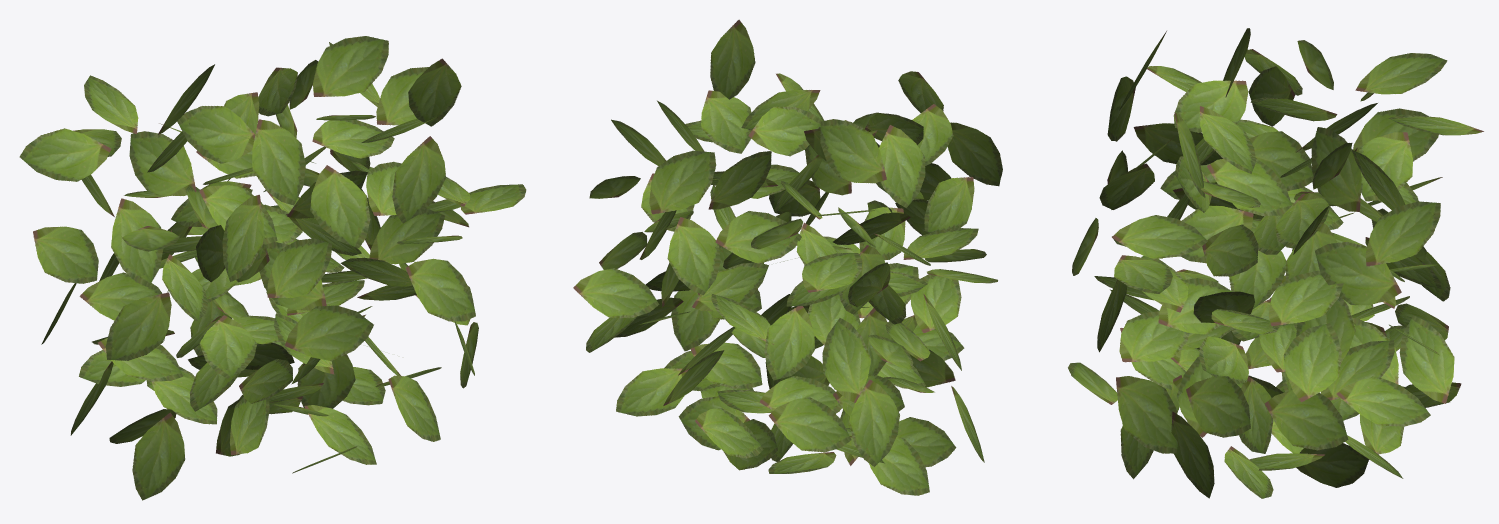
Rendered from shrub-rounded-01-lod2.glb.
3 renders of one model, left to right at view 1: azimuth 30°, elevation 25°; view 2: azimuth 150°, elevation 25°; view 3: azimuth 270°, elevation 25°, orthographic. The views are drawn at different scales.
Parts seen in each view (by area): view 1: shrub-rounded-01_MATERIAL_BATCH; view 2: shrub-rounded-01_MATERIAL_BATCH; view 3: shrub-rounded-01_MATERIAL_BATCH.
Boxes of the visible parts, x1,y1,x2,y2 form: shrub-rounded-01_MATERIAL_BATCH: (19, 36, 526, 500); shrub-rounded-01_MATERIAL_BATCH: (573, 19, 1002, 495); shrub-rounded-01_MATERIAL_BATCH: (1068, 28, 1483, 498).
Size of the model in its own units: 1.36 by 1.3 by 1.2.
Materials: 1 (1 with a texture image).
